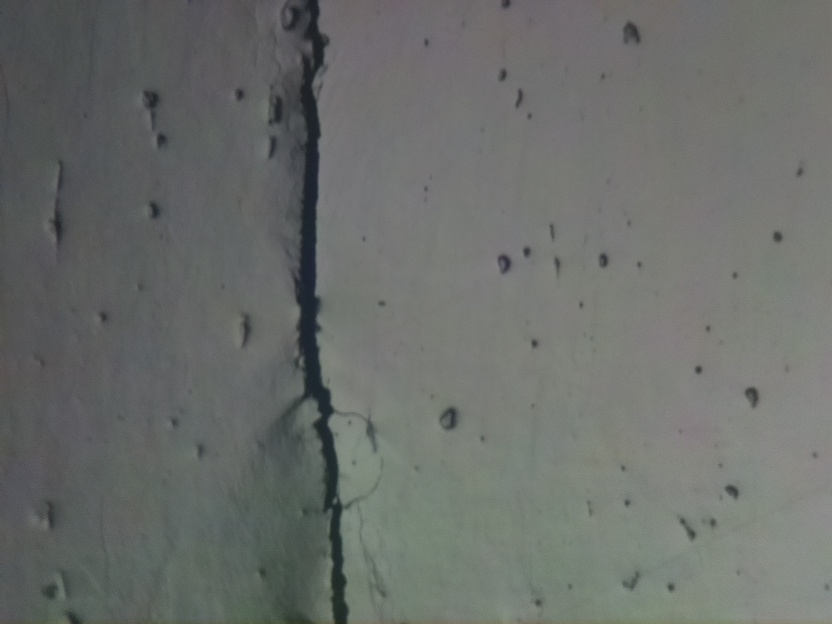crack: (287, 0, 349, 624)
